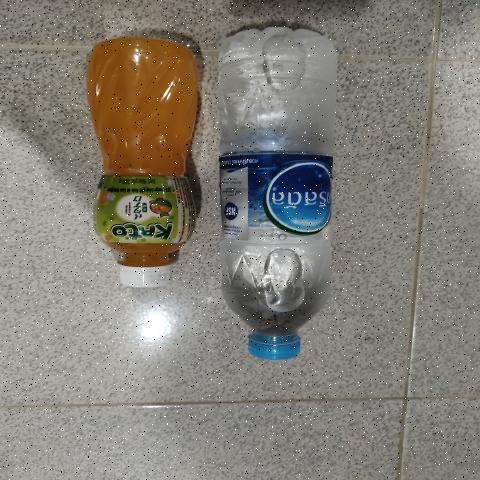crystal: (211, 19, 340, 368)
